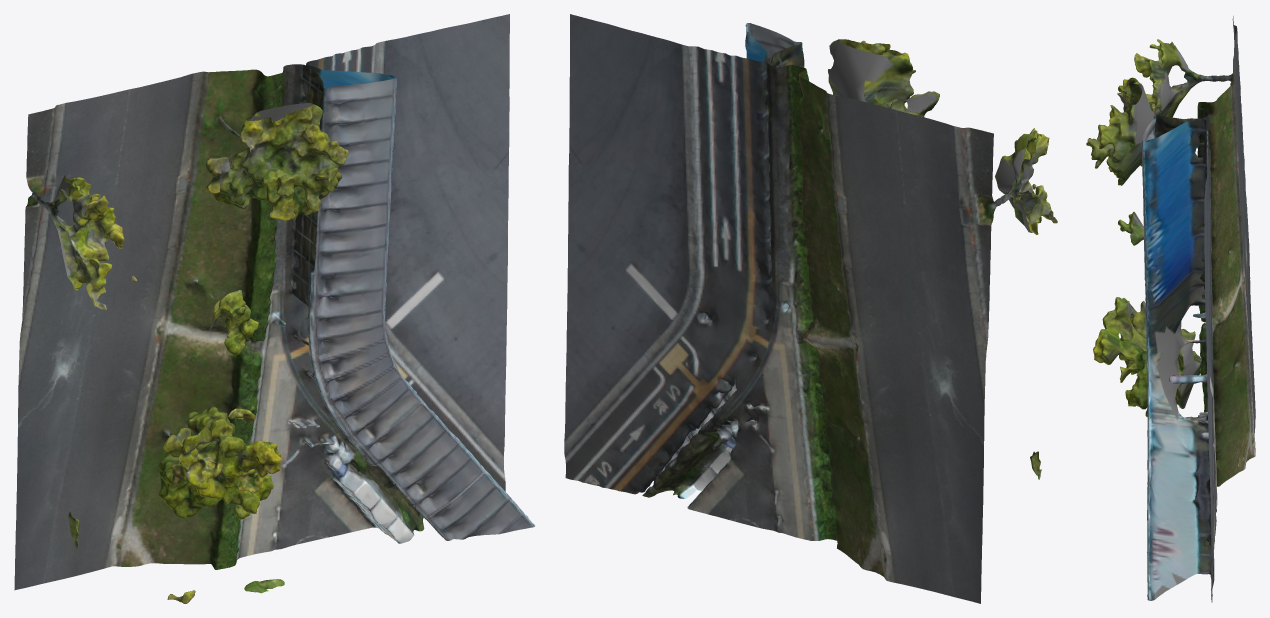
File: Tile_+016_+021.fbx
3 views of the same model, side by side, from view 1: azimuth 30°, elevation 25°; view 2: azimuth 150°, elevation 25°; view 3: azimuth 270°, elevation 25° (orthographic). The views are drawn at different scales.
Visible parts, largest first — view 1: DefaultName; view 2: DefaultName; view 3: DefaultName.
Part boxes in pixels (<box>): DefaultName: <box>14,14,535,603</box>; DefaultName: <box>564,14,1057,603</box>; DefaultName: <box>1086,16,1255,602</box>.
Bounding box in the file's own units: 22.54 × 22.54 × 8.61.
